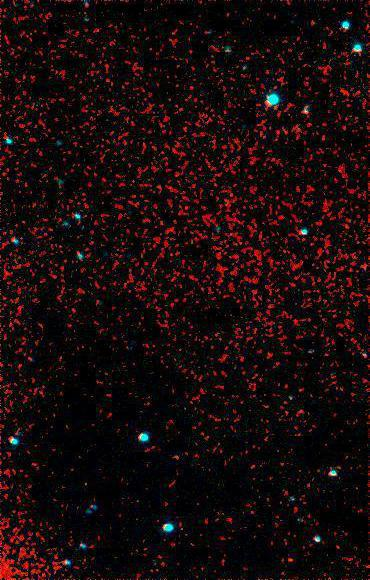star: (273, 547, 303, 577)
